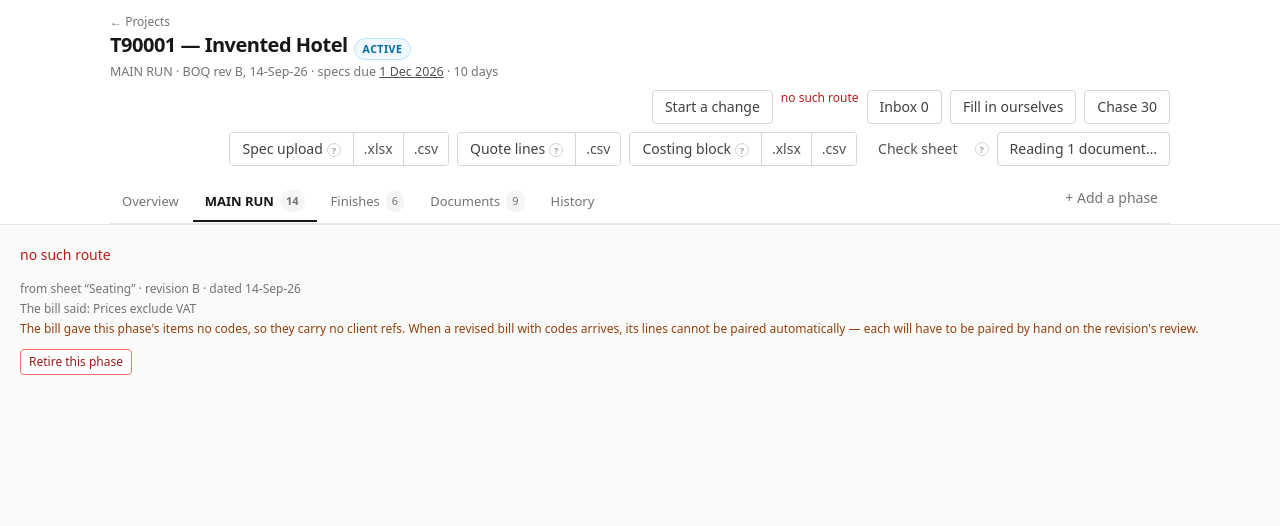
Test case: a phase tab › closes the retire box on Keep it
The width and height of the screenshot is (1280, 526).
What coordinates should you click on to do the following:
click the button "Retire this phase"
I would click on:
 (76, 362)
Its box is [20,349,132,375].
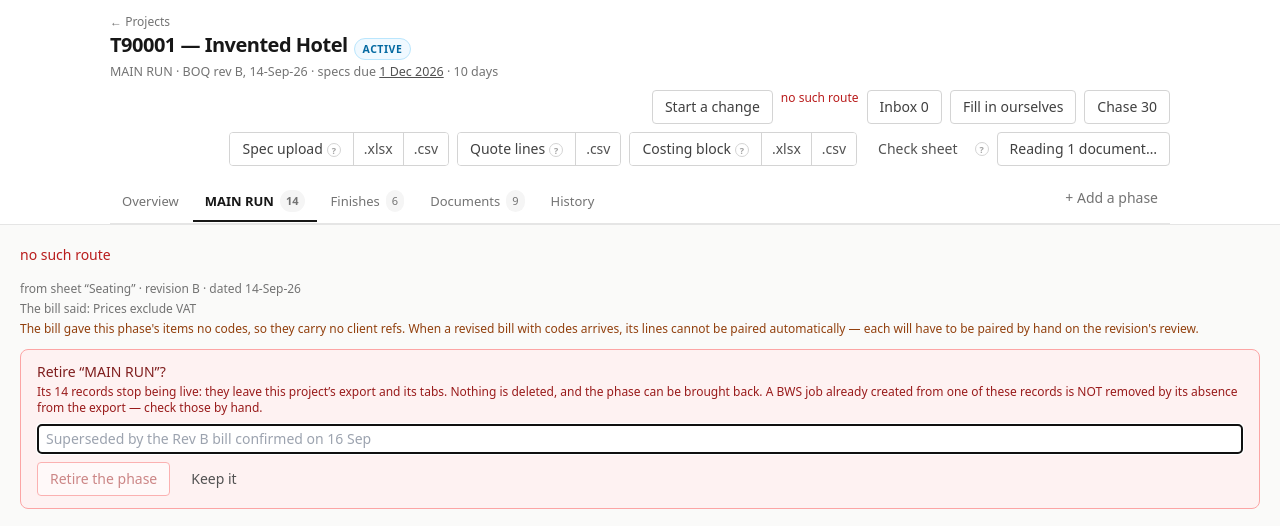
What coordinates should you click on to do the following:
click the button "Keep it"
I would click on:
 (214, 479)
Its box is [178,462,250,496].
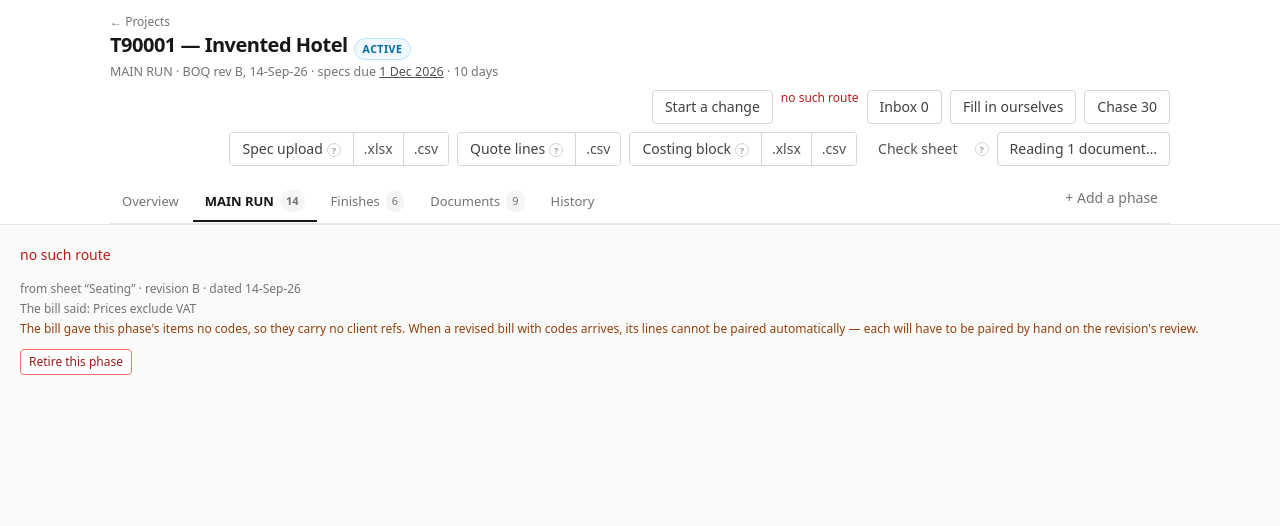
Now the button "Retire this phase" is shown, box [20,349,132,375]
